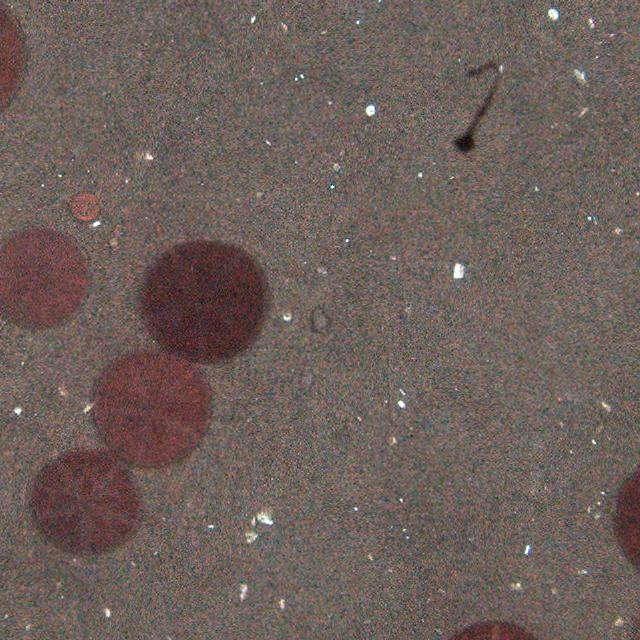whelk: (305, 306, 333, 336)
